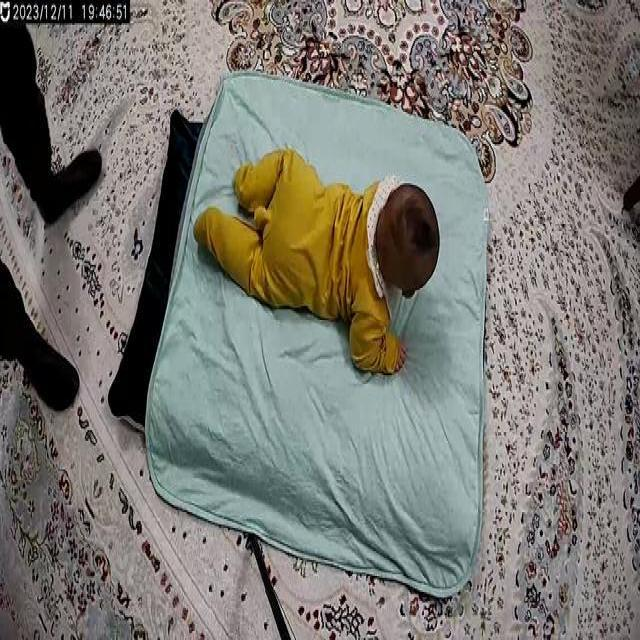baby: (194, 142, 444, 387)
